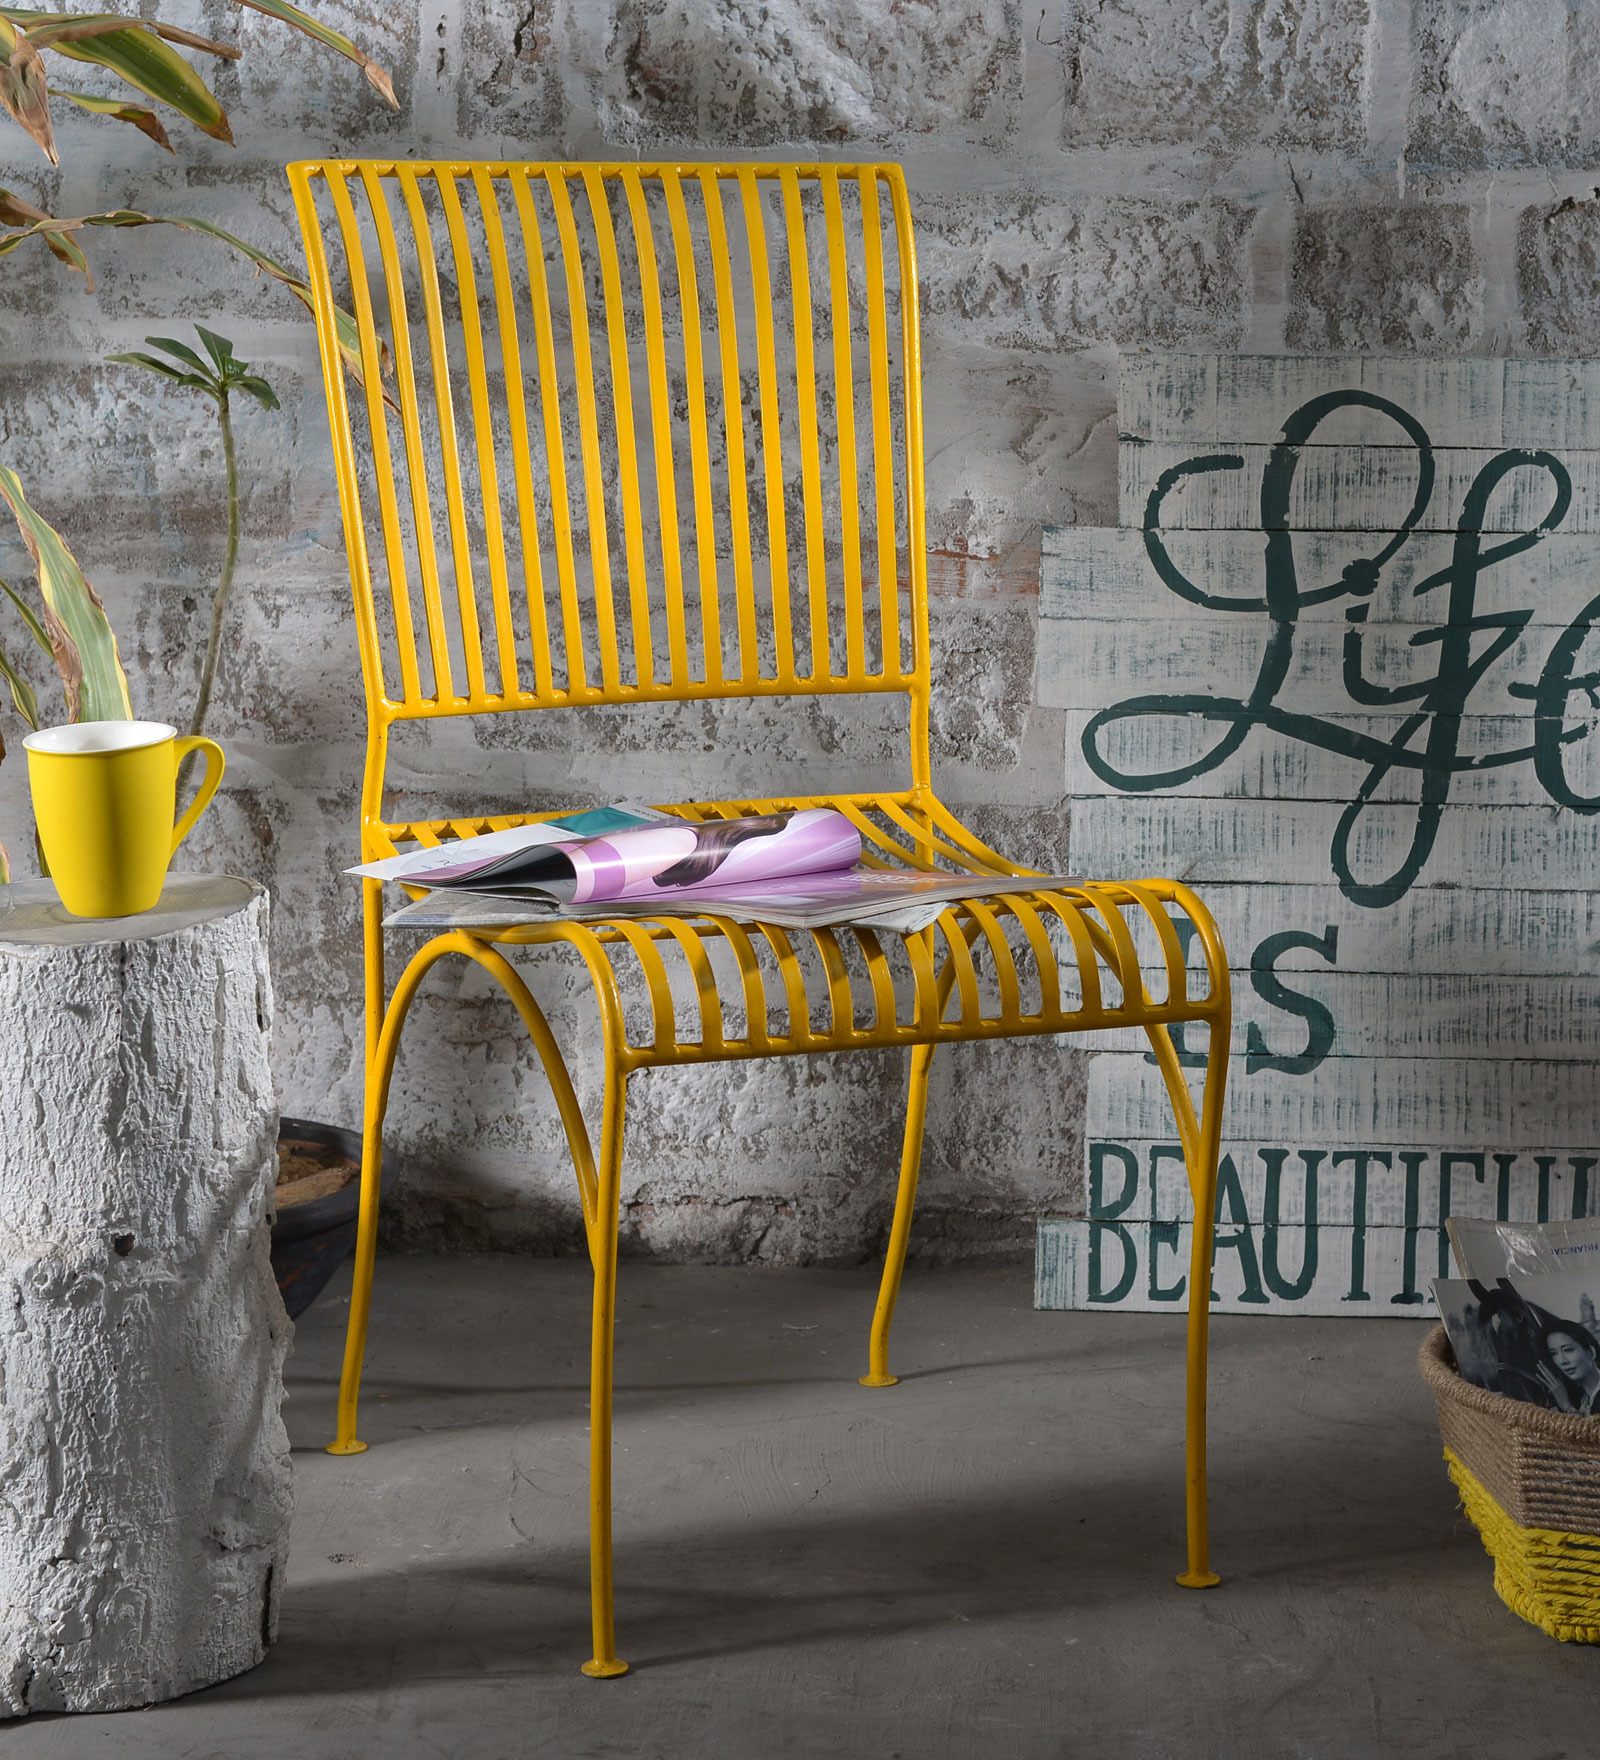Lisheen Outdoor Iron Chair in Yellow Color by Bohemiana: (261, 126, 1284, 1693)
